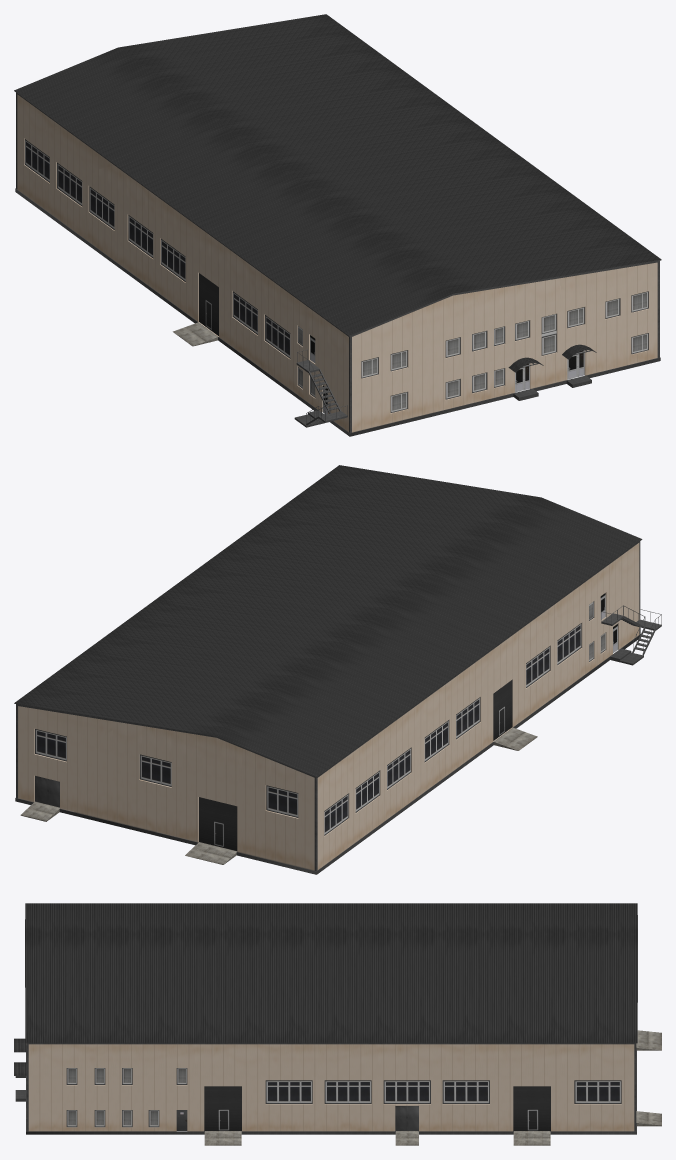
File: plant-building2.glb
3 views of the same model, one above another, from view 1: azimuth 30°, elevation 25°; view 2: azimuth 150°, elevation 25°; view 3: azimuth 270°, elevation 25° (orthographic). The views are drawn at different scales.
Visible parts, largest first — view 1: Object8932283; view 2: Object8932283; view 3: Object8932283.
Part boxes in pixels (box(x1,y1,x2,y2)): Object8932283: box(14, 14, 661, 436); Object8932283: box(14, 465, 661, 874); Object8932283: box(14, 903, 661, 1145).
Bounding box in the file's own units: 35.93 × 11.31 × 61.32.
1 material, 1 textured.
